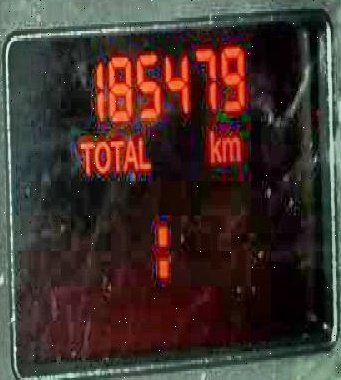1: (95, 57, 105, 122)
4: (162, 48, 191, 115)
5: (136, 48, 160, 115)
7: (194, 47, 217, 109)
8: (107, 53, 132, 119)
9: (219, 44, 247, 111)
X: (156, 222, 170, 280), (222, 133, 242, 164), (78, 135, 93, 175), (137, 135, 152, 173), (94, 137, 109, 173), (123, 135, 137, 171), (109, 135, 122, 171), (208, 124, 218, 166)
